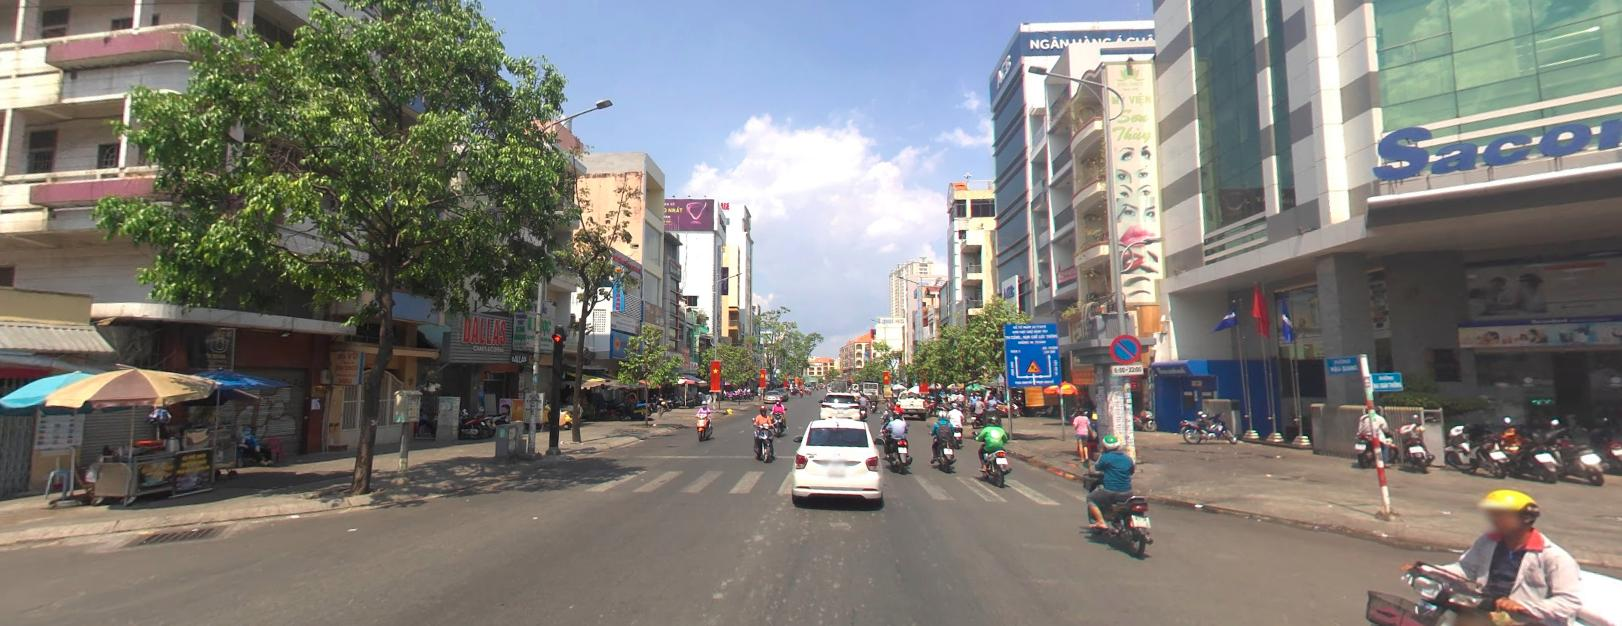Cam dung va do: (1108, 331, 1142, 362)
Nguy hiem: (1026, 358, 1041, 370)
